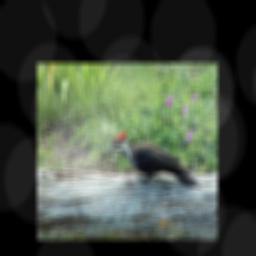Woodpecker: (103, 132, 202, 186)
